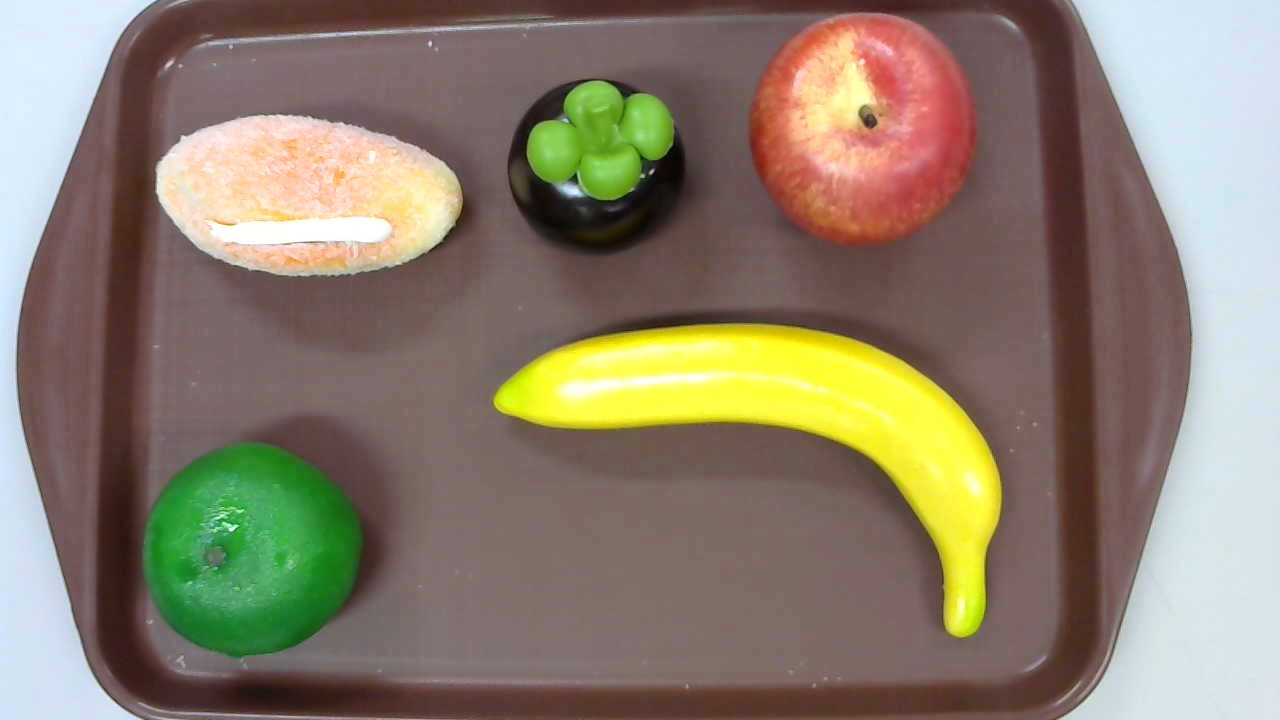banana: (493, 320, 1003, 636)
coconut: (156, 114, 462, 278)
green orange: (141, 441, 362, 659)
mangosteen: (508, 78, 685, 256)
red apple: (749, 12, 979, 249)
